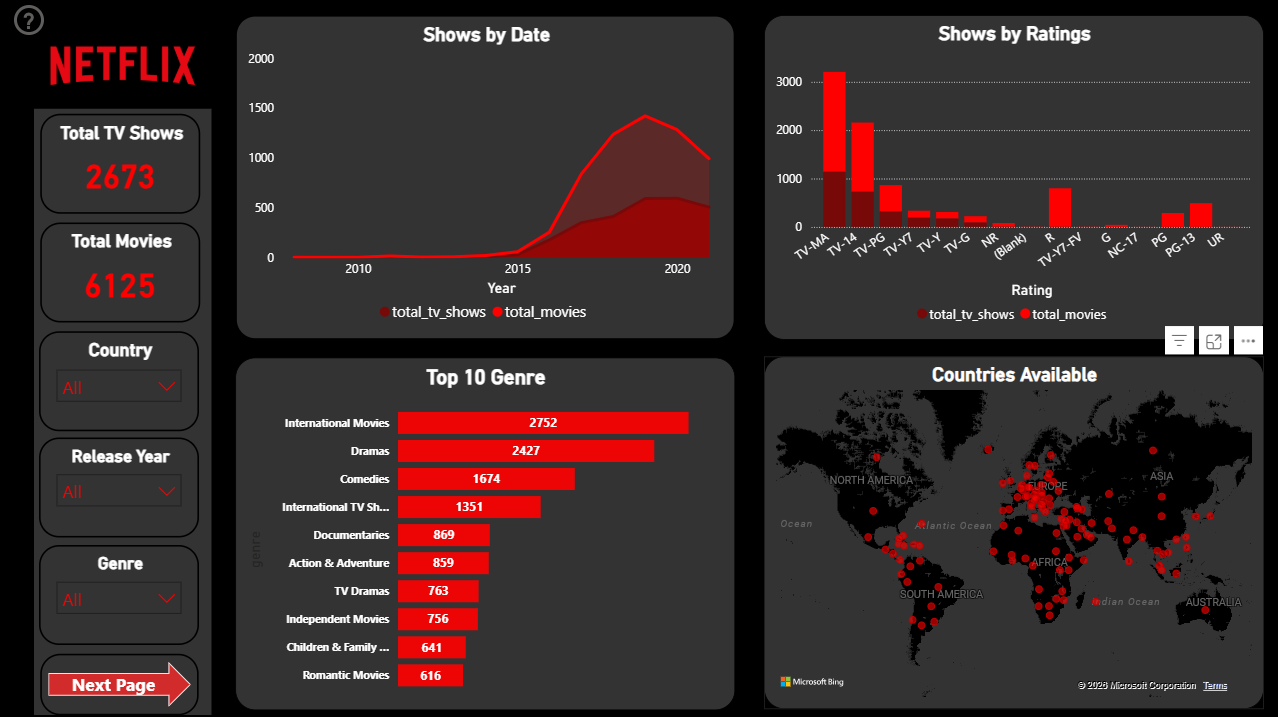

Layout of this report page (visuals, bound fields, positions):
{"tool":"powerbi","page":{"name":"Overview","canvas":[1280,720],"ordinal":0},"visuals":[{"type":"shape","box":[35,108.8,177.5,606.2],"z":0},{"type":"areaChart","title":"Shows by  Date","fields":{"Category":["lookup_netflix_titles.date_added.Variation.Date Hierarchy.Year"],"Y":["measures (2).total_tv_shows","measures (2).total_movies"]},"box":[236.2,15,500,325],"z":1000},{"type":"columnChart","title":"Shows by Ratings","fields":{"Category":["lookup_netflix_titles.rating"],"Y":["measures (2).total_tv_shows","measures (2).total_movies"]},"box":[765,15,500,325],"z":2000},{"type":"map","title":"Countries Available ","fields":{"Category":["lookup_country_flat.country_name"]},"box":[765,356.2,500,352.5],"z":3000},{"type":"clusteredBarChart","title":"Top 10 Genre ","fields":{"Category":["lookup_listed_flat.genre"],"Y":["measures (2).total_titles"]},"box":[236.2,357.5,500,352.5],"z":4000},{"type":"card","title":"Total TV Shows","fields":{"Values":["measures (2).total_tv_shows"]},"box":[41.2,113.8,160,100],"z":5000},{"type":"card","title":"Total Movies","fields":{"Values":["measures (2).total_movies"]},"box":[41.2,222.5,160,100],"z":6000},{"type":"slicer","title":"Country","fields":{"Values":["lookup_country_flat.country_name"]},"box":[40,331.2,160,100],"z":7000},{"type":"slicer","title":"Release Year","fields":{"Values":["lookup_netflix_titles.release_year"]},"box":[40,437.5,160,100],"z":8000},{"type":"slicer","title":"Genre","fields":{"Values":["lookup_listed_flat.genre"]},"box":[40,545,160,100],"z":9000},{"type":"image","box":[35,0,177.5,126.2],"z":10000},{"type":"shape","box":[41.2,653.8,158.8,61.2],"z":11000},{"type":"actionButton","box":[10,0,50,40],"z":12000}]}

Visuals, with their boxes in screenshot pixels (x1, y1, x2, y2), scaled from the page's 1280x720 canvas onto the 1278x717 screenshot:
shape: box(35, 108, 212, 712)
"Shows by  Date" areaChart: box(236, 15, 735, 339)
"Shows by Ratings" columnChart: box(764, 15, 1263, 339)
"Countries Available " map: box(764, 355, 1263, 706)
"Top 10 Genre " clusteredBarChart: box(236, 356, 735, 707)
"Total TV Shows" card: box(41, 113, 201, 213)
"Total Movies" card: box(41, 222, 201, 321)
"Country" slicer: box(40, 330, 200, 429)
"Release Year" slicer: box(40, 436, 200, 535)
"Genre" slicer: box(40, 543, 200, 642)
image: box(35, 0, 212, 126)
shape: box(41, 651, 200, 712)
actionButton: box(10, 0, 60, 40)
